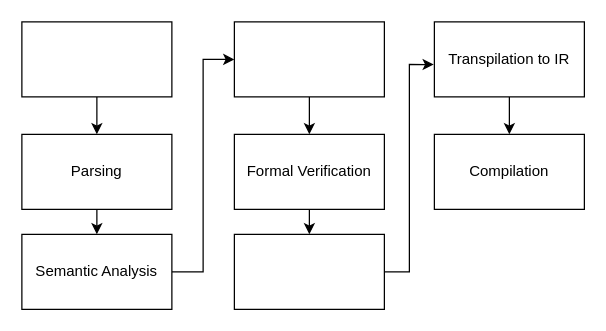
The diagram is 606 pixels wide and 331 high, and some of its shapes have lost their labels. Here are the shapes that lost their labels. From the top down, the centre of each, then its label:
At (x=96, y=59): "Tokenisation".
At (x=308, y=59): "Type Checking".
At (x=308, y=271): "Runtime assertion generation".
